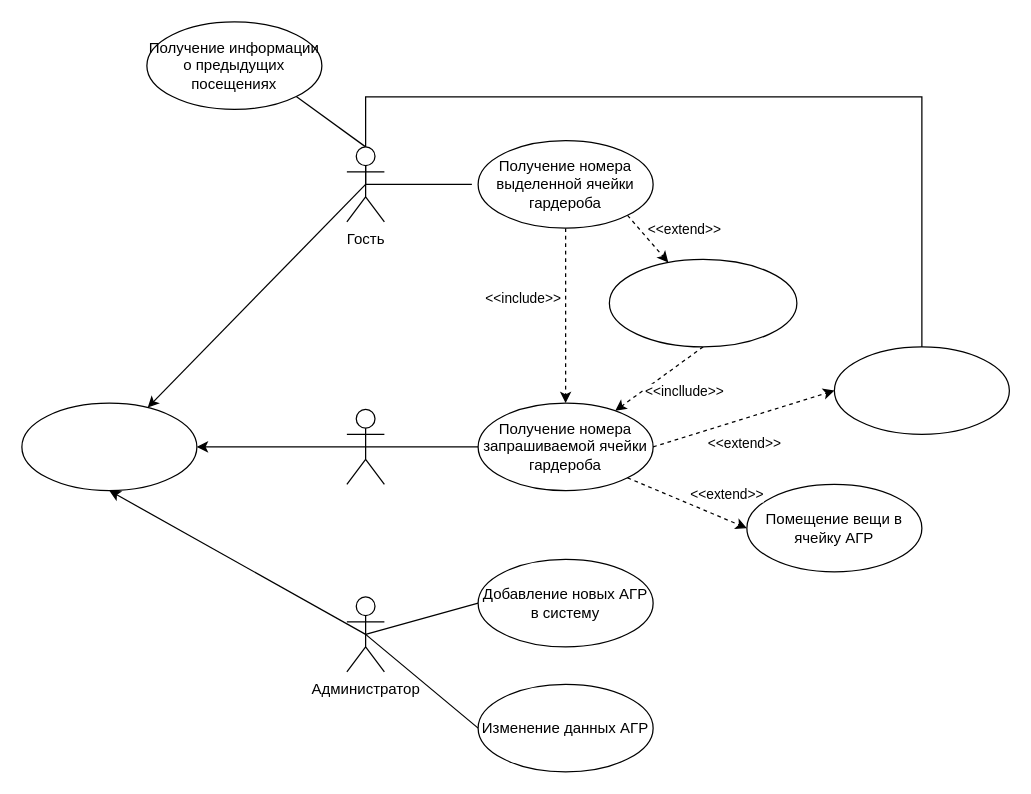
Image size: 1031x794. Some labels were removed from this diagram. Each missing label, with the centre of its shape:
"Получение вещи для помещения на хранение" goes at [702,302].
"Получение вещи из ячейки АГР" goes at [921,390].
"Просмотр состояния АГР" goes at [109,446].
"Работник гардероба" goes at [365,446].
